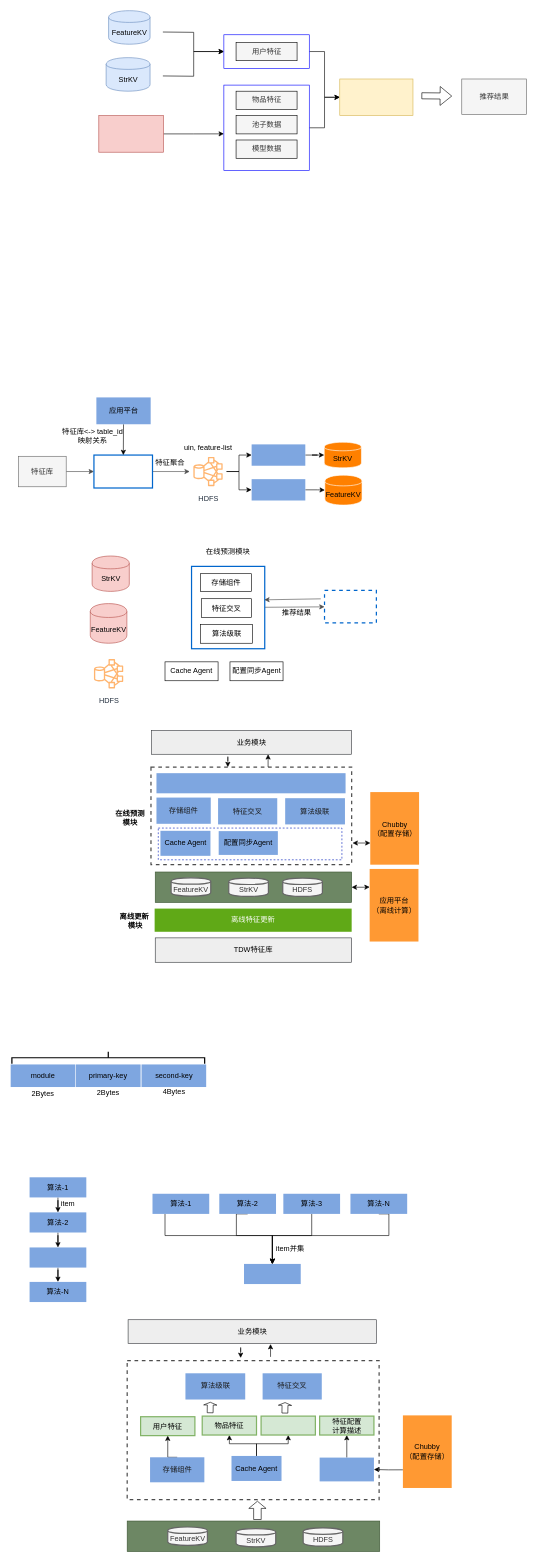
Image size: 537x1562. Some labels were removed from this diagram. The shapes that lost their labels are listed below. From the top down, each one's centre as x and y in pixels, then its label:
At point 376,97: "在线打分模块".
At point 130,133: "共享内存".
At point 123,471: "离线更新模块".
At point 278,454: "分发平台".
At point 278,489: "FeatureKV工具".
At point 350,606: "前端业务模块".
At point 250,783: "ABTest组件".
At point 108,1057: "编码后的特征ID".
At point 57,1257: "算法....".
At point 272,1274: "算法-N+1".
At point 288,1425: "模型训练数据".
At point 346,1469: "配置同步 Agent".
